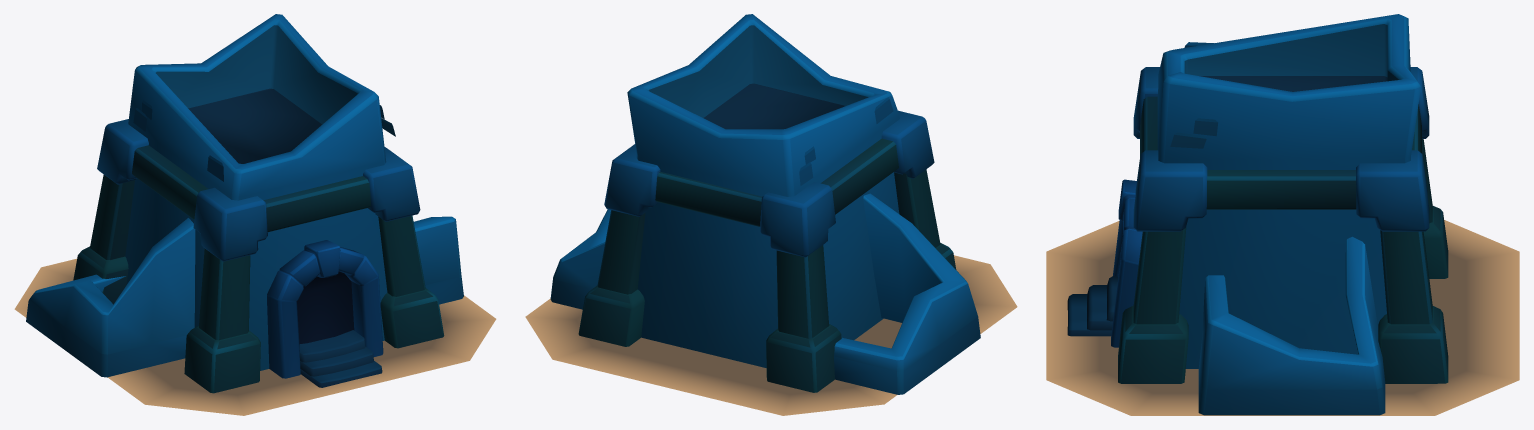
File: TH_Broken.fbx
3 views of the same model, side by side, from view 1: azimuth 30°, elevation 25°; view 2: azimuth 150°, elevation 25°; view 3: azimuth 270°, elevation 25° (orthographic). The views are drawn at different scales.
Visible parts, largest first — view 1: TH_Broken; view 2: TH_Broken; view 3: TH_Broken.
Boxes of the visible parts, x1=… form: TH_Broken: x1=14, y1=14, x2=496, y2=415; TH_Broken: x1=525, y1=14, x2=1017, y2=415; TH_Broken: x1=1046, y1=14, x2=1519, y2=415.
Size of the model in its own units: 4399 by 2872 by 4353.
